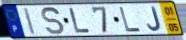7: (91, 6, 109, 34)
I: (23, 7, 37, 36)
J: (146, 5, 163, 32)
L: (118, 6, 143, 33), (68, 7, 92, 34)
S: (40, 6, 65, 36)
